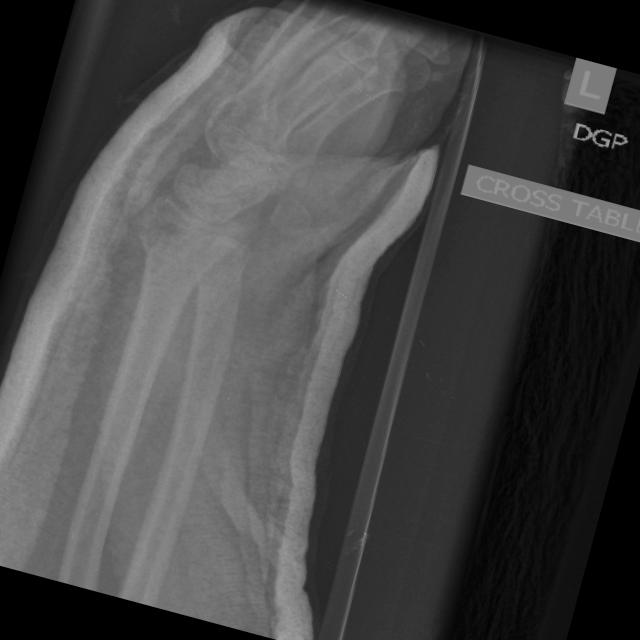fingers positive: (111, 191, 267, 296)
